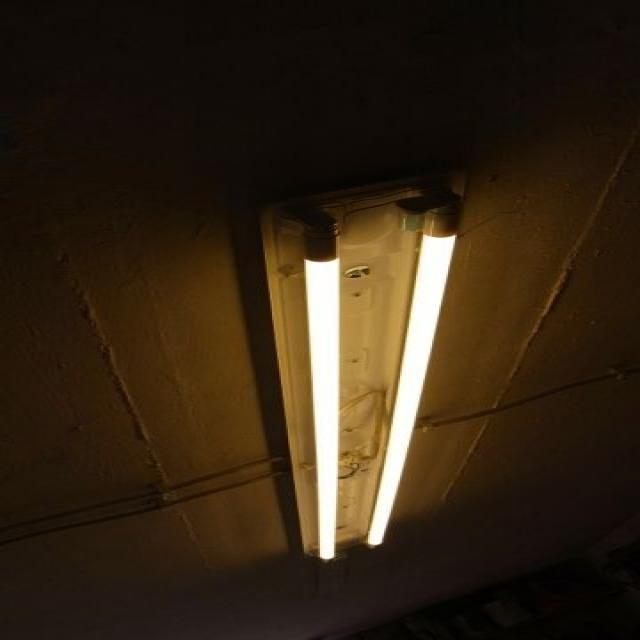Straight-Tube-Fluorescent-Lamp: (365, 174, 463, 572), (292, 211, 346, 569)
